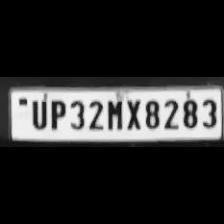2: (160, 97, 180, 131), (86, 97, 104, 130)
3: (66, 96, 86, 130), (198, 96, 218, 128)
8: (140, 96, 160, 130), (179, 97, 199, 129)
M: (104, 97, 122, 131)
P: (46, 98, 66, 130)
U: (26, 98, 48, 130)
X: (124, 97, 142, 131)
